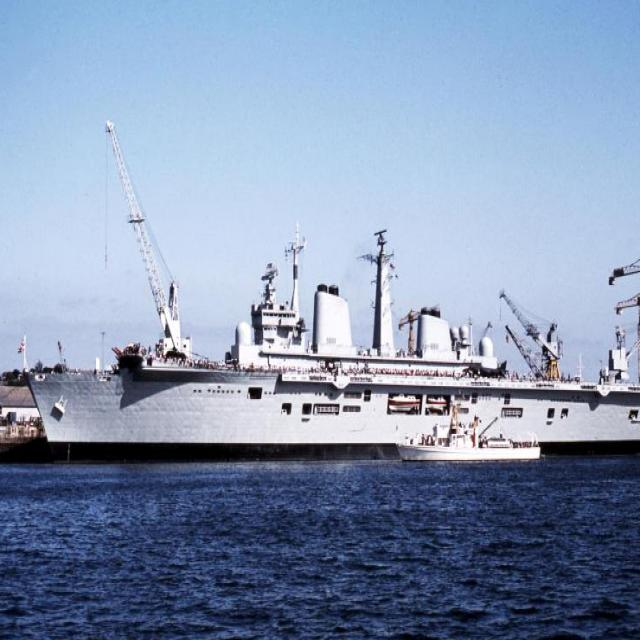Portanaves: (18, 218, 640, 468)
